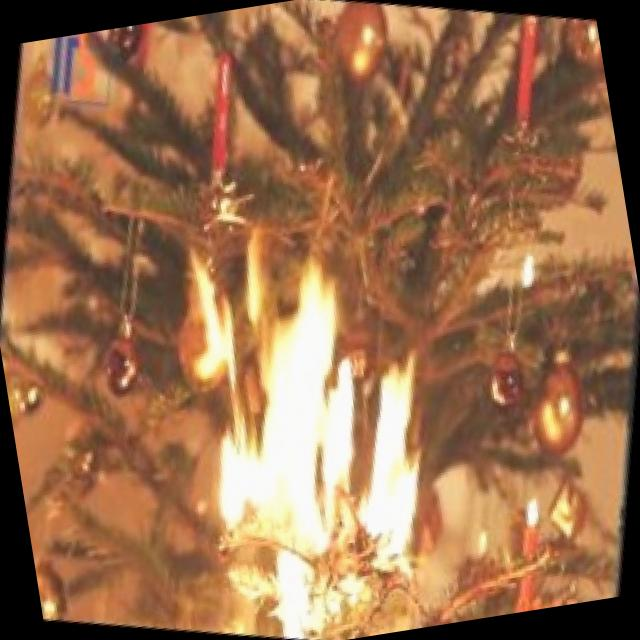fire: (123, 192, 486, 585)
